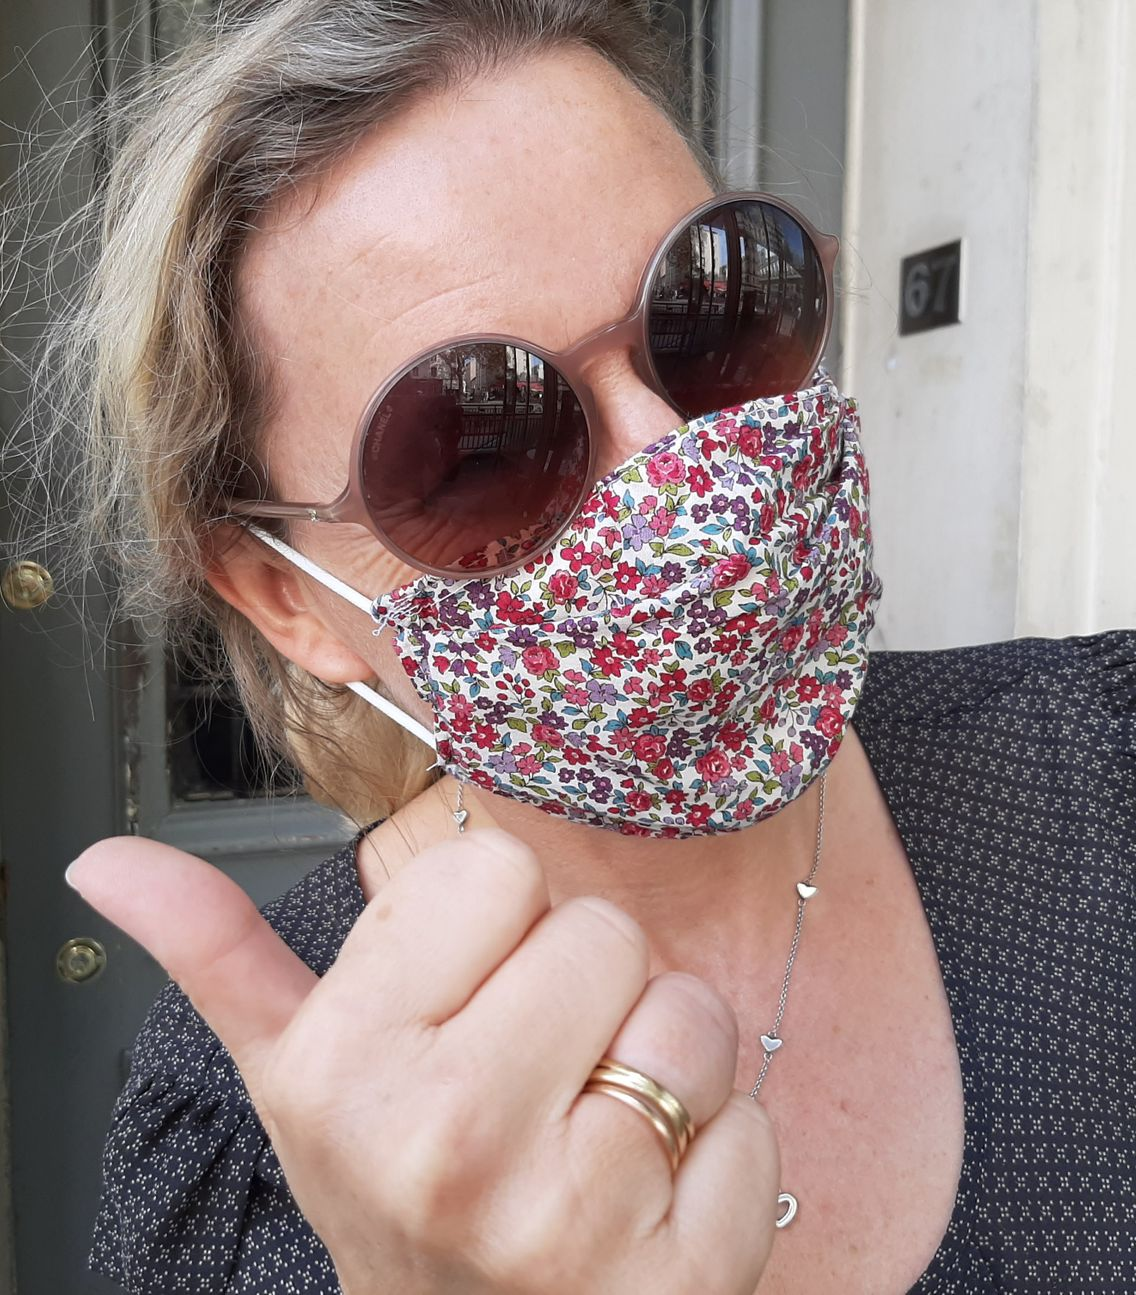without_mask: (276, 200, 887, 852)
